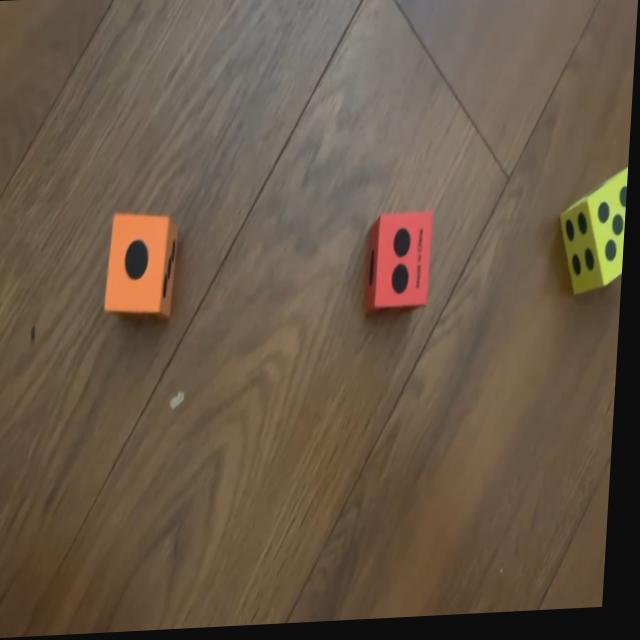cube: (367, 214, 437, 315)
